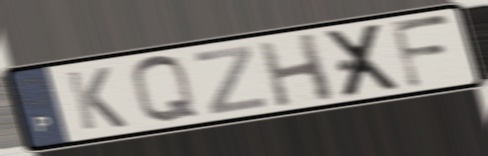F: (387, 12, 455, 91)
H: (254, 30, 339, 109)
K: (62, 64, 131, 133)
Q: (128, 53, 204, 127)
X: (322, 20, 406, 101)
Z: (190, 42, 270, 117)
